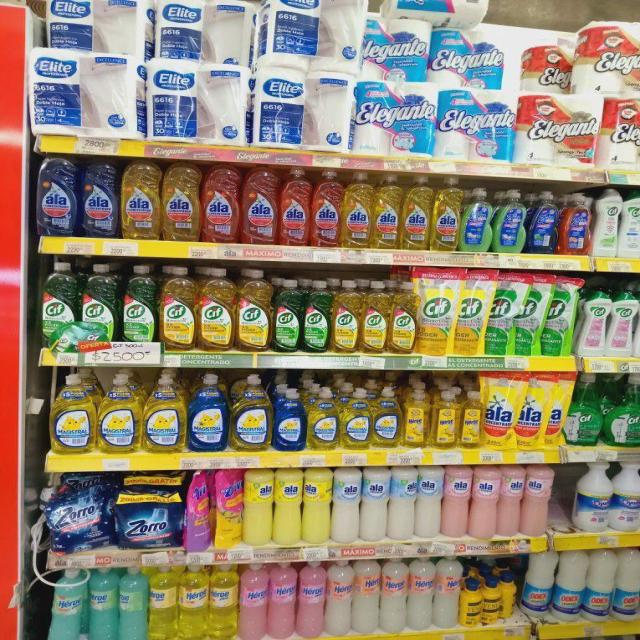ala_conc_amarillo: (121, 160, 160, 240), (162, 162, 200, 241), (342, 170, 372, 249), (401, 174, 431, 250), (432, 175, 461, 252), (373, 172, 400, 250)
ala_conc_azul: (36, 155, 78, 237), (80, 158, 119, 239)
ala_conc_rojo: (202, 163, 240, 244), (242, 165, 278, 245), (280, 166, 310, 247), (312, 168, 342, 248)
ala_crem_amarillo: (243, 468, 273, 547), (303, 466, 331, 546), (274, 467, 302, 546)
ala_crem_blanco: (333, 466, 360, 544), (361, 466, 388, 542), (389, 464, 416, 540), (417, 465, 442, 539)
ala_crem_rosado: (523, 464, 552, 537), (444, 464, 471, 539), (472, 464, 498, 540), (498, 464, 523, 539)
ala_sachet_amarillo: (482, 371, 514, 452), (516, 371, 544, 450), (543, 372, 565, 451)
cif_conc_bot_amarilla: (198, 266, 235, 352), (159, 265, 196, 351), (237, 268, 272, 353), (333, 280, 361, 354), (389, 281, 416, 355), (362, 280, 389, 354)
cif_conc_botella_verde: (40, 261, 78, 351), (80, 262, 119, 344), (121, 264, 158, 343), (273, 278, 302, 353), (303, 279, 331, 353)
cif_conc_sachet_amarillo: (418, 265, 454, 356), (454, 268, 486, 356)
cif_conc_sachet_verde: (542, 274, 574, 357), (486, 268, 515, 356), (515, 271, 542, 356)
heroe: (46, 570, 86, 640), (208, 562, 238, 640), (178, 563, 208, 640), (88, 567, 119, 640), (296, 560, 325, 638), (239, 561, 267, 640), (148, 564, 177, 640), (352, 558, 380, 636), (268, 560, 295, 640), (119, 566, 148, 640), (380, 556, 407, 633), (326, 558, 352, 636), (434, 555, 461, 629), (408, 556, 433, 632)
magistral_con_amarillo: (48, 374, 96, 454), (97, 372, 141, 454), (143, 371, 186, 454), (230, 374, 271, 452), (307, 386, 339, 452), (340, 387, 370, 451), (372, 386, 402, 448)
magistral_con_azul: (188, 372, 228, 452), (273, 387, 305, 452)
zorro: (494, 188, 527, 253), (462, 186, 492, 252), (528, 190, 558, 254), (560, 191, 590, 255)
